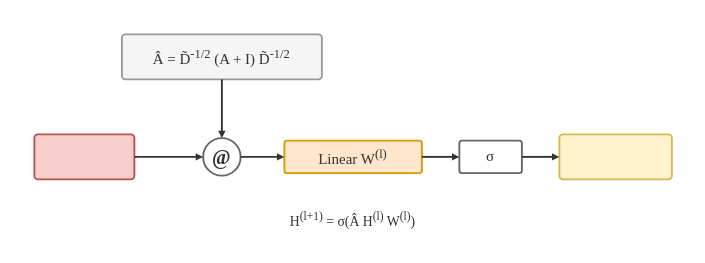
This 705x263 diagram has some shape labels left out. Each missing label, with the box of its shape:
H (l) N x F: (33, 133, 135, 180)
H (l+1) N x F′: (558, 133, 672, 180)
